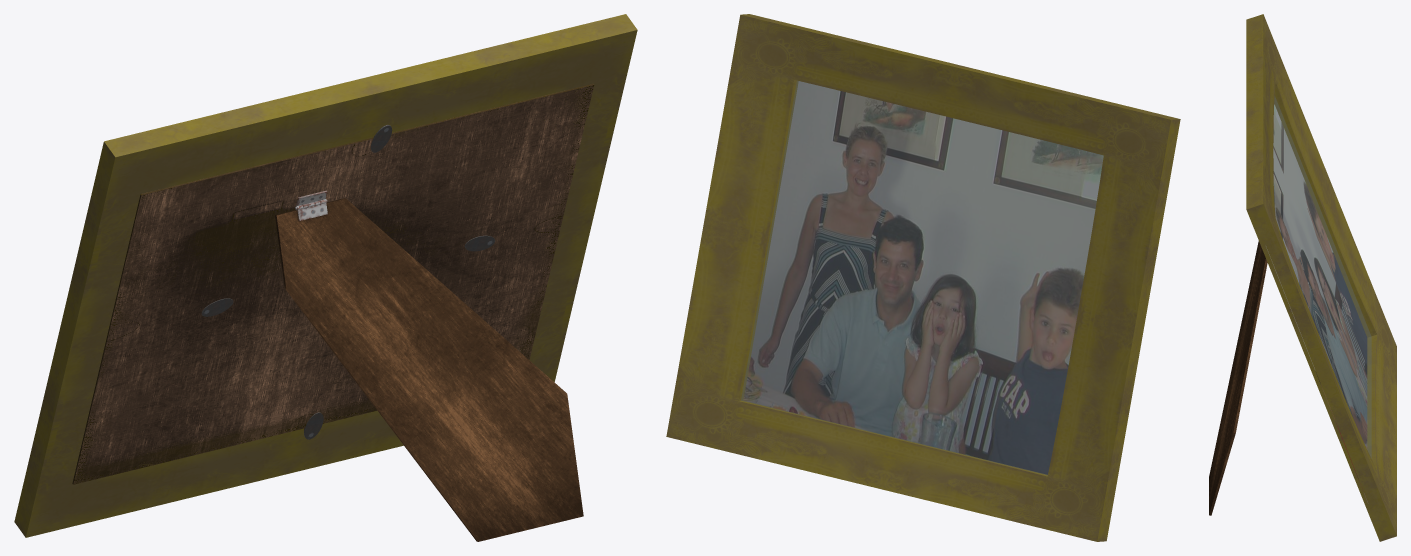
3 views of the same model, side by side, from view 1: azimuth 30°, elevation 25°; view 2: azimuth 150°, elevation 25°; view 3: azimuth 270°, elevation 25° (orthographic). The views are drawn at different scales.
Parts seen in each view (by area): view 1: Box001, framelow_03 - Default_0, Box003_bracket_0; view 2: Glass, photo, framelow_03 - Default_0; view 3: framelow_03 - Default_0, Glass, photo, Box003_bracket_0.
Boxes of the visible parts, x1,y1,x2,y2 form: Box001: [72, 83, 594, 484]; framelow_03 - Default_0: [14, 14, 637, 537]; Box003_bracket_0: [275, 198, 583, 541]; Glass: [741, 81, 1103, 475]; photo: [743, 81, 1103, 474]; framelow_03 - Default_0: [666, 14, 1180, 541]; framelow_03 - Default_0: [1246, 14, 1396, 541]; Glass: [1273, 97, 1371, 458]; photo: [1266, 104, 1368, 503]; Box003_bracket_0: [1209, 241, 1267, 515].
Size of the model in its own units: 40.64 by 33.87 by 16.93.
7 materials, 7 textured.
